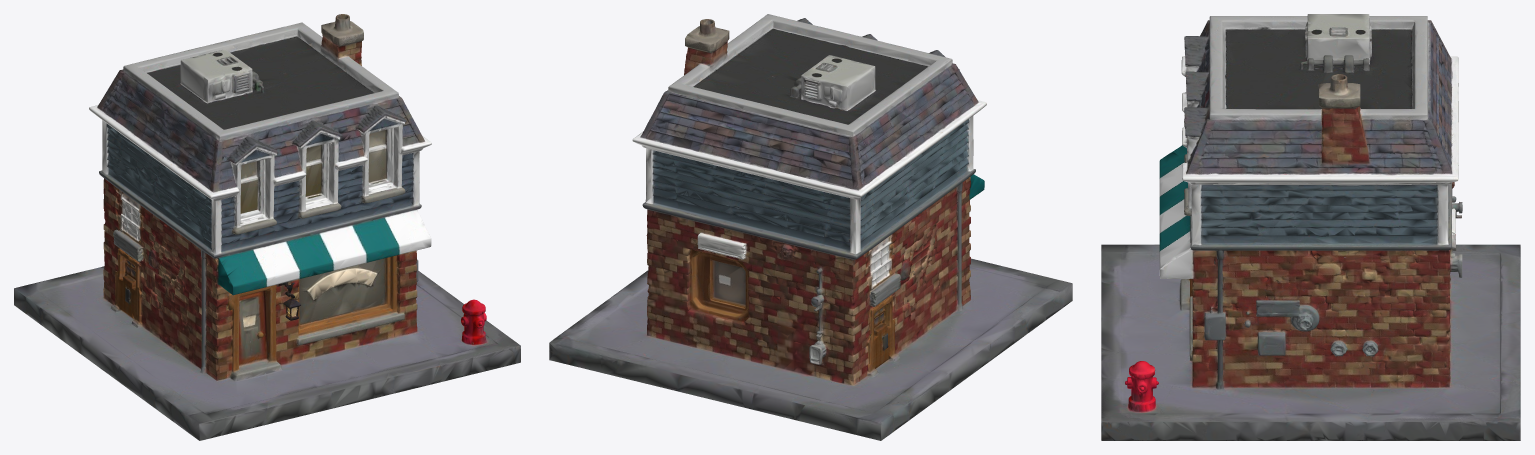
Rendered from Building_A_Top_Player.glb.
The picture shows the model from 3 angles, left to right: view 1: azimuth 30°, elevation 25°; view 2: azimuth 150°, elevation 25°; view 3: azimuth 270°, elevation 25°; orthographic projection. The views are drawn at different scales.
Bounding box in the file's own units: 1.9 × 1.62 × 1.9.
Materials: 1 (1 with a texture image).
